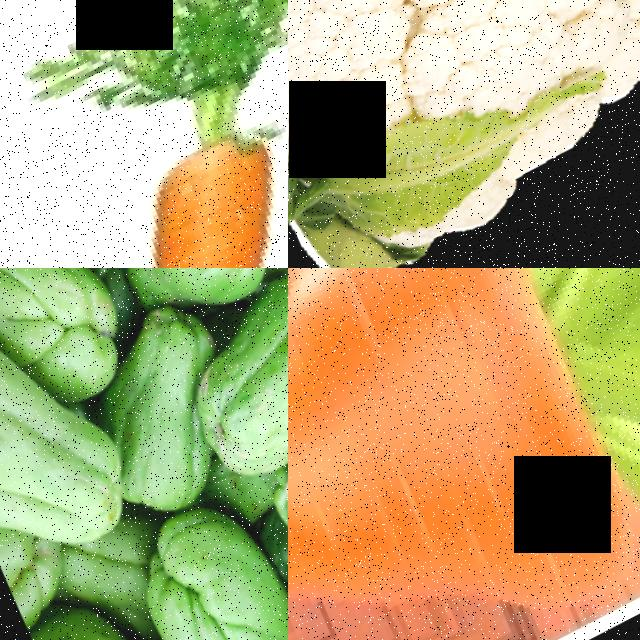carrot: (288, 268, 640, 640), (0, 58, 288, 268)
cauliflower: (288, 0, 640, 268)
chayote: (0, 268, 156, 580), (72, 338, 258, 546), (147, 268, 288, 489), (148, 483, 288, 640), (93, 268, 288, 336), (25, 572, 203, 640)
